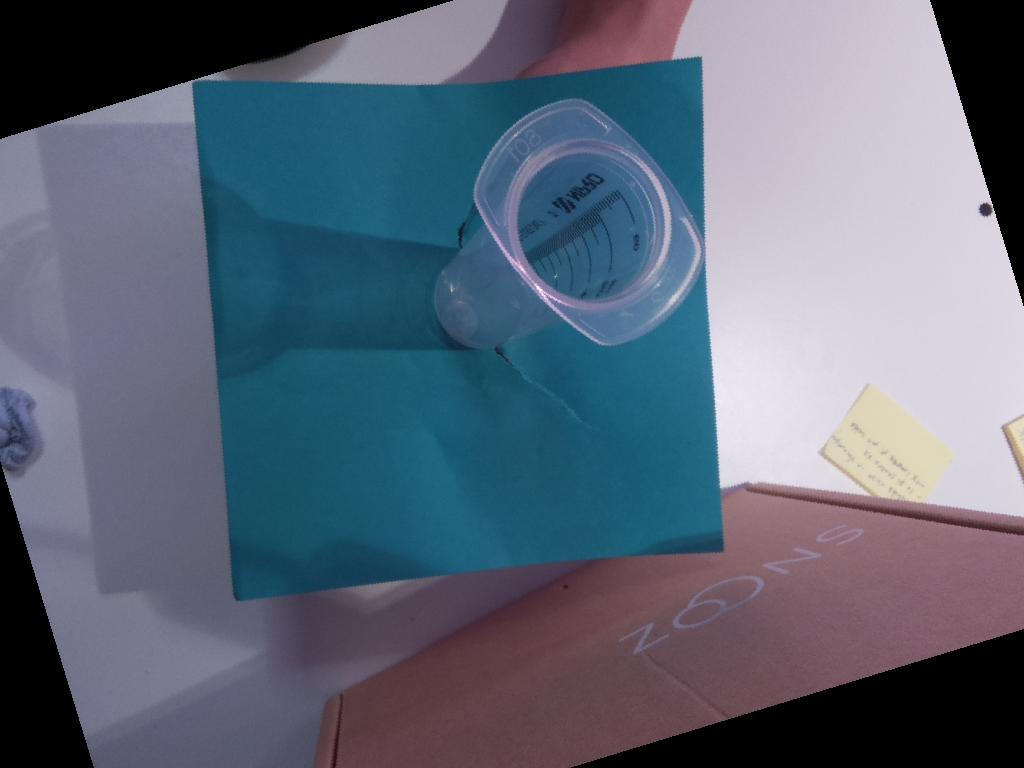clean: (472, 96, 705, 349)
